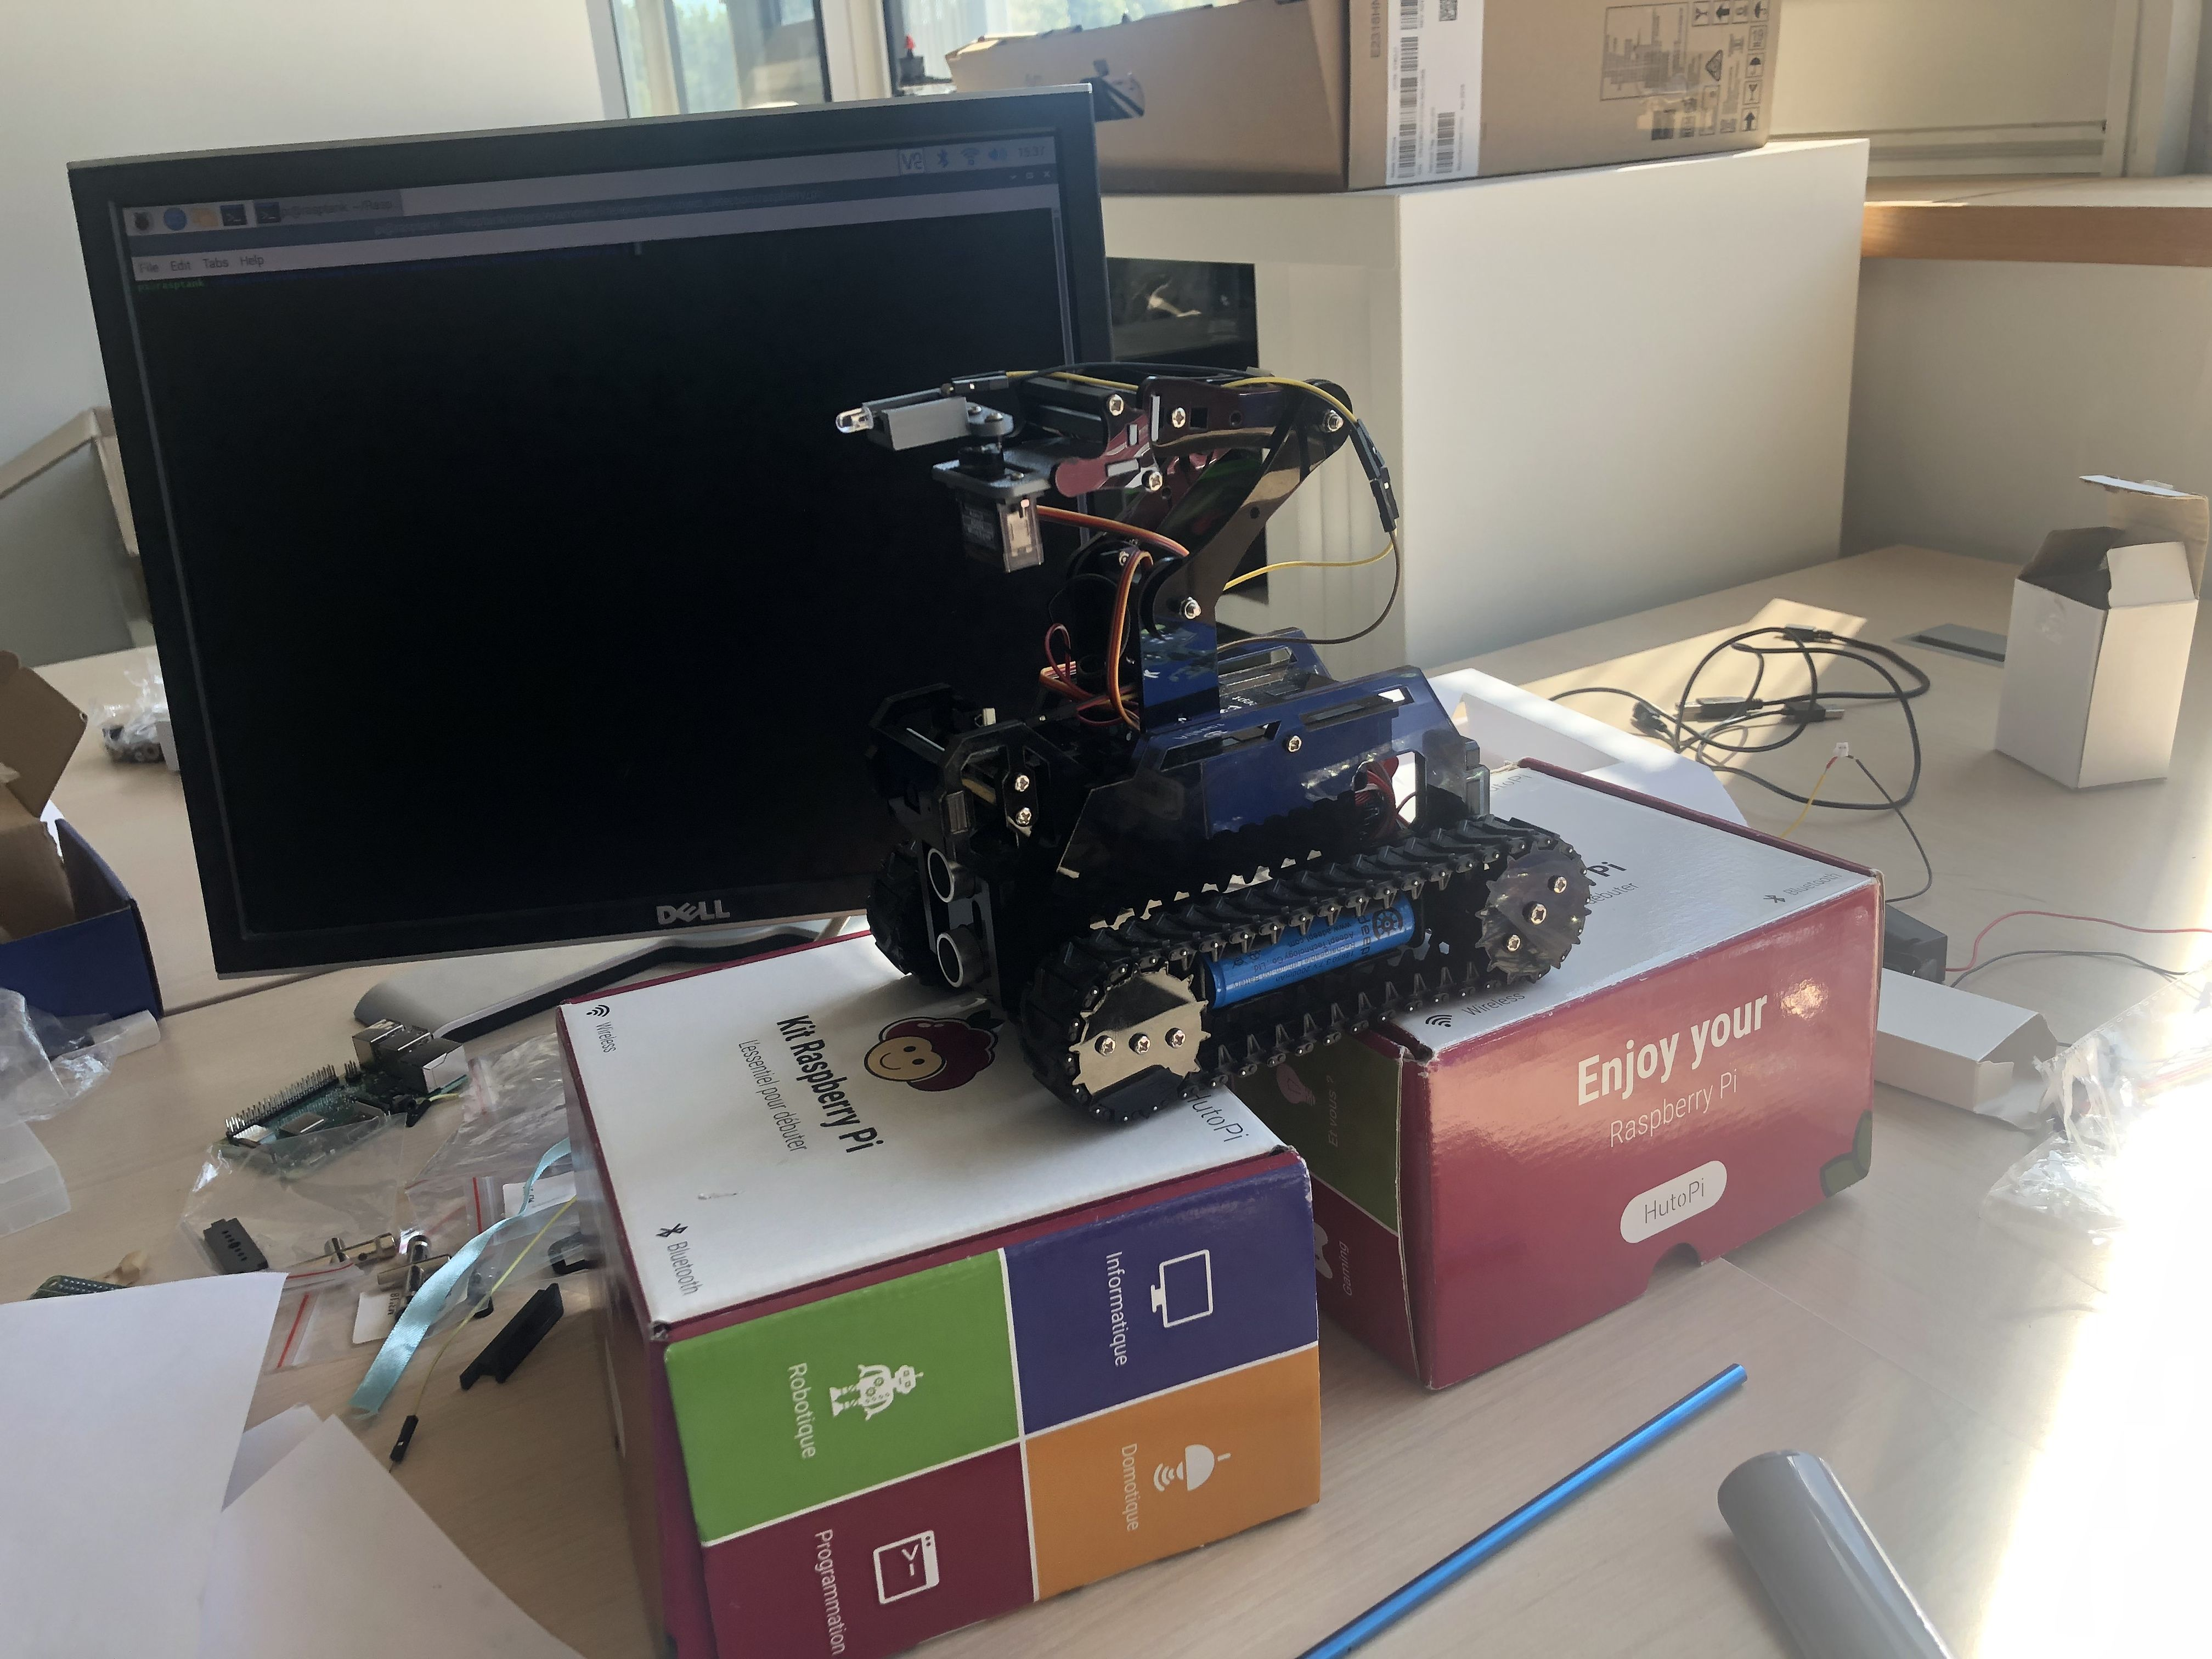rasptank: (784, 382, 1594, 1136)
